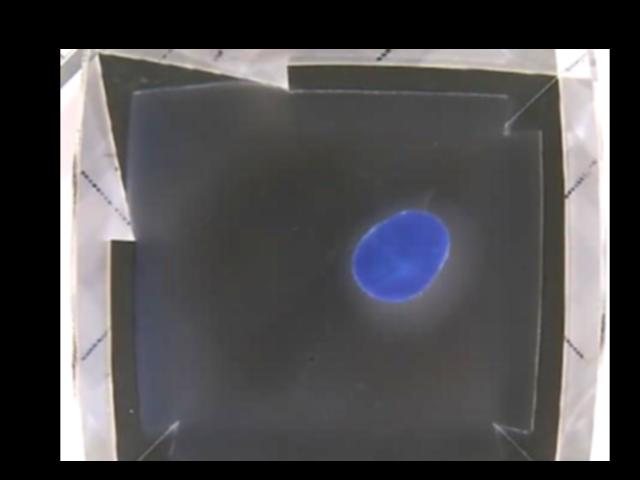Potato: (351, 206, 452, 303)
